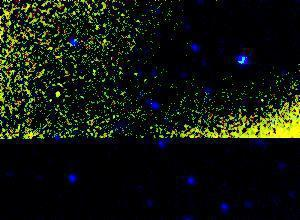star: (42, 76, 72, 106)
